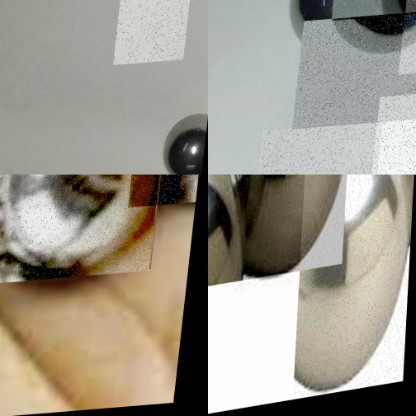ironball: (295, 174, 415, 401), (0, 174, 170, 287), (239, 173, 339, 286), (208, 174, 250, 289), (333, 0, 415, 54), (132, 174, 208, 213), (164, 110, 209, 173)
